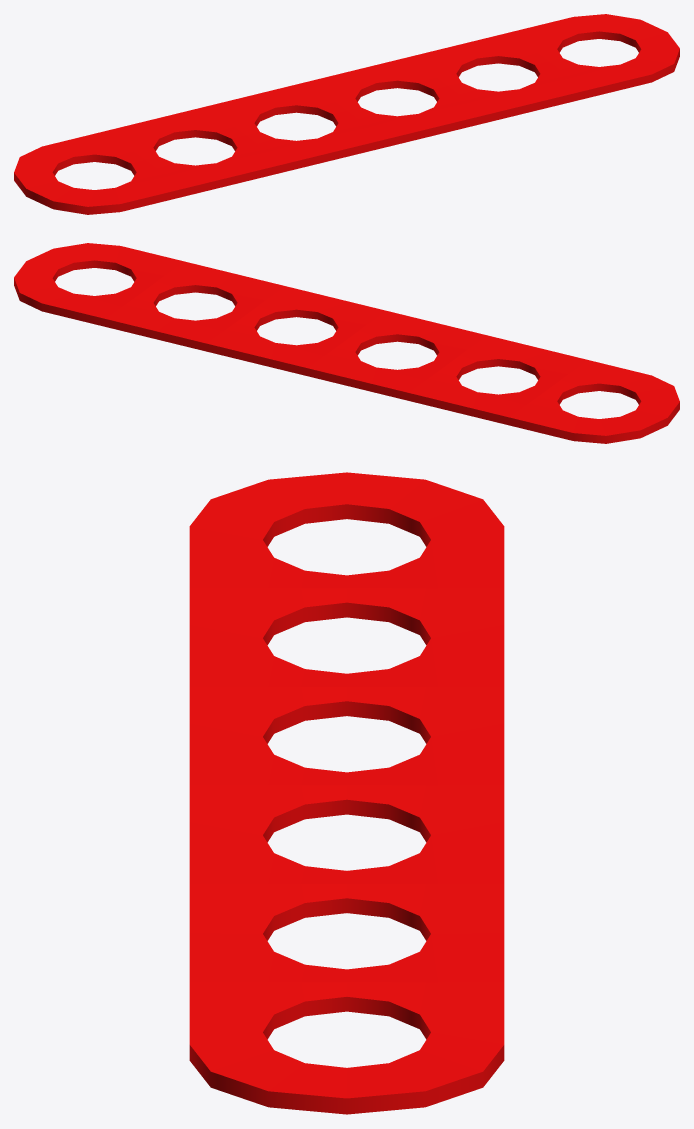
The model's file is SixLongRed.fbx.
The picture shows the model from 3 angles, top to bottom: view 1: azimuth 30°, elevation 25°; view 2: azimuth 150°, elevation 25°; view 3: azimuth 270°, elevation 25°; orthographic projection. The views are drawn at different scales.
Visible parts, largest first — view 1: Blue6; view 2: Blue6; view 3: Blue6.
Boxes of the visible parts, box(x1,y1,x2,y2) form: Blue6: box(14, 14, 679, 214); Blue6: box(14, 243, 679, 443); Blue6: box(189, 472, 504, 1114).
Bounding box in the file's own units: 16.25 × 0.1942 × 3.45.
